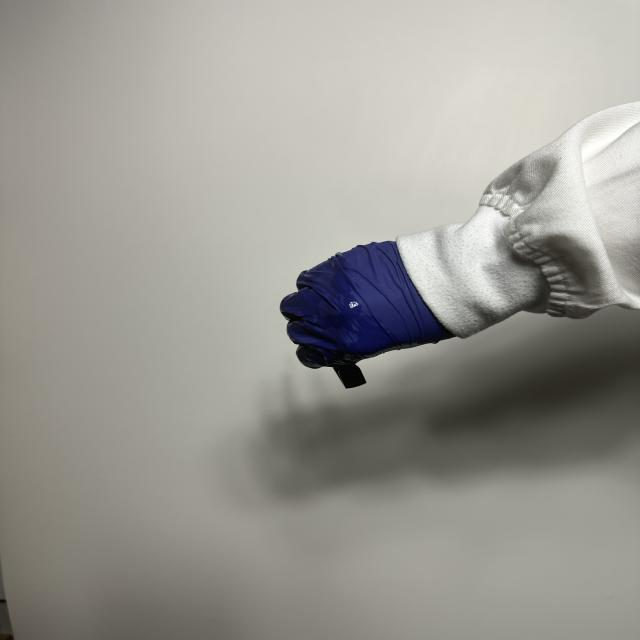gloves_contaminated: (281, 242, 454, 368)
